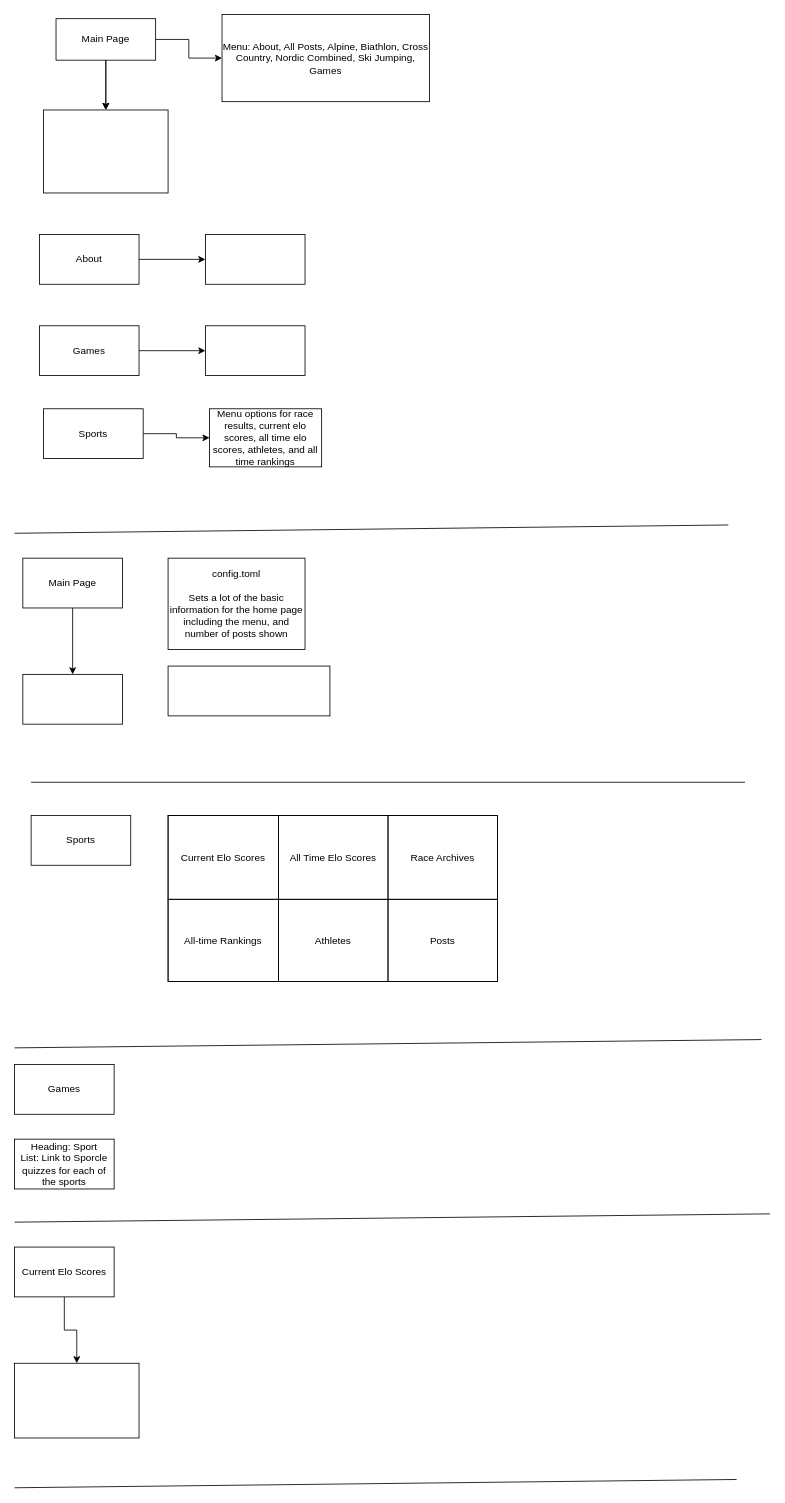
This 785x1503 diagram has some shape labels left out. The shapes that lost their labels are listed below. From the top down, each one's centre as x and y in pixels, then its label:
pixel 105 151: Previews of previous blog posts. Contains title, date and heading. Nothing more.
pixel 255 259: Information about me and what this site is designed to do
pixel 255 350: List labeled by sports with links to all my Sporcle quizzes from findings
pixel 72 699: Code Files: Set-up of page that shows previews, headers
pixel 248 690: content/post will have all of the posts that show up on the main page.
pixel 76 1400: Keep as is. Rename to daehl-e.com/SPORT/current_elo
